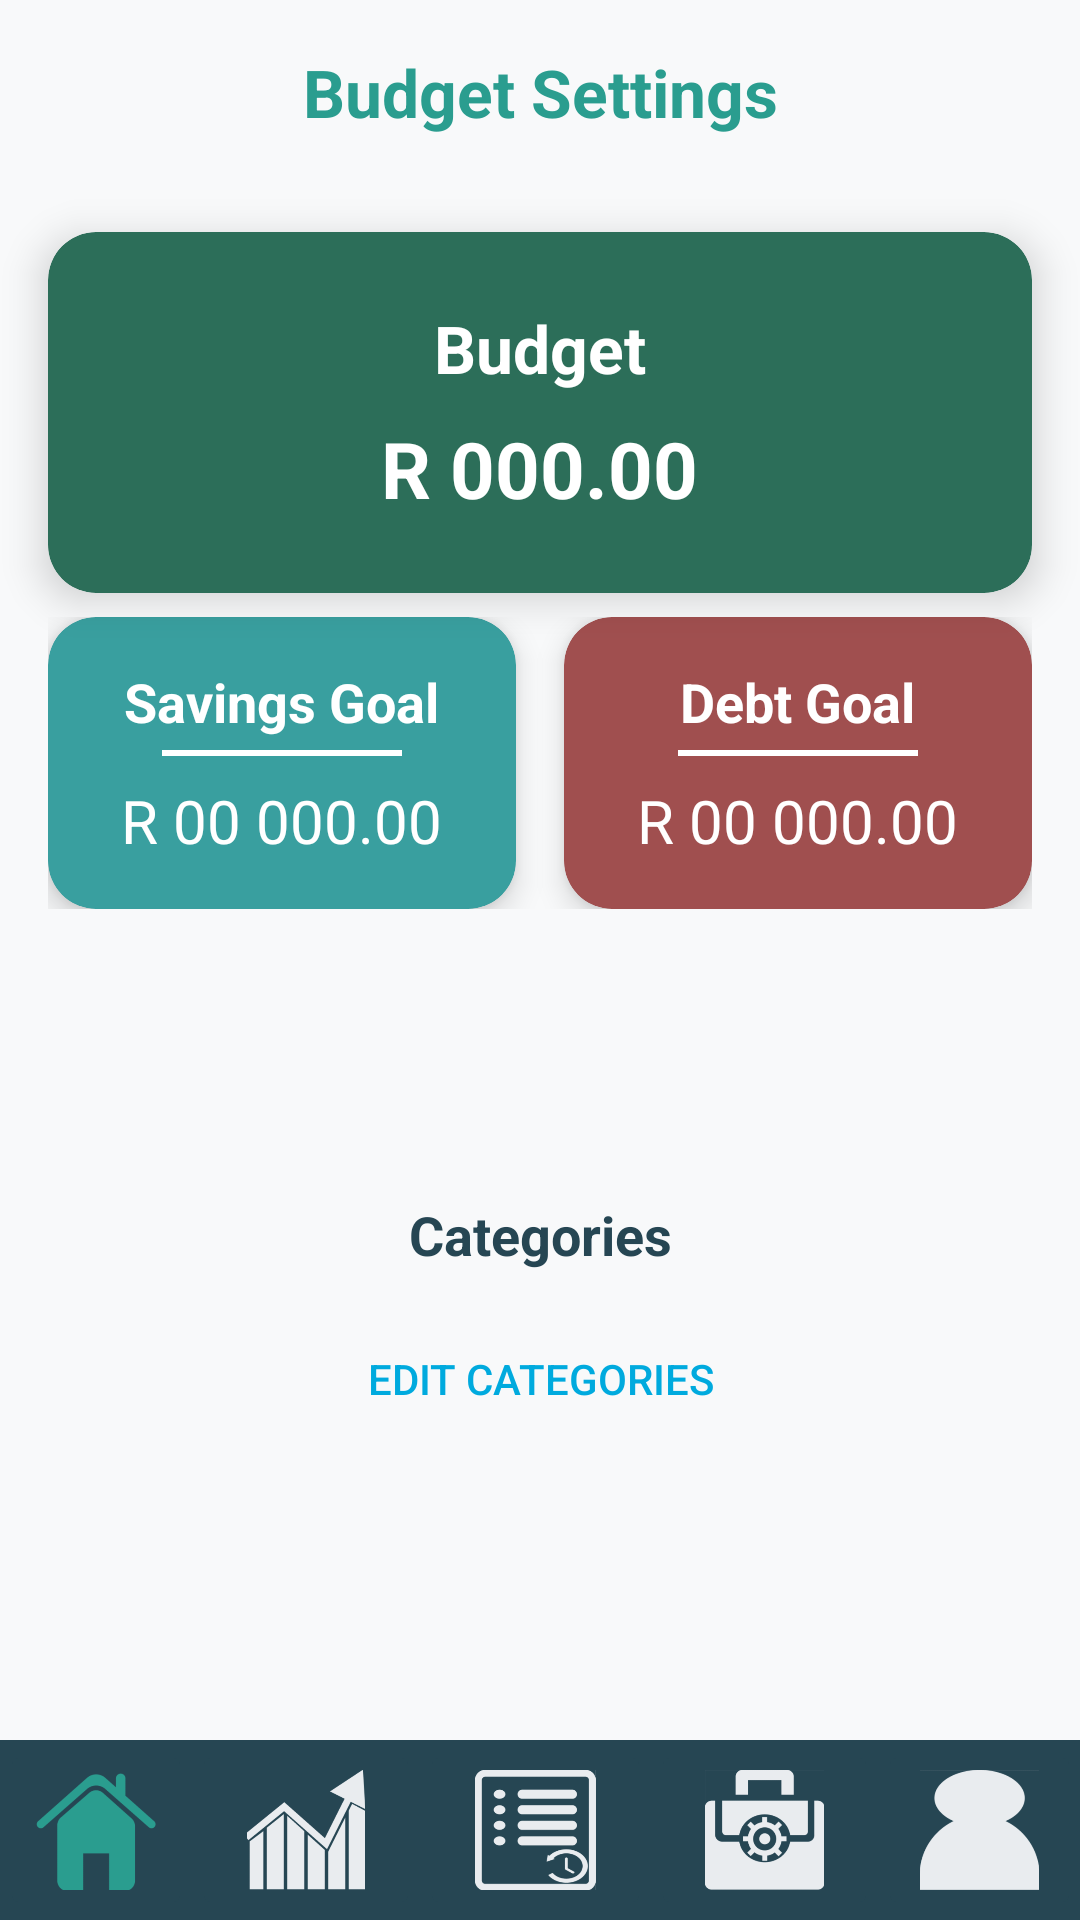

Point at icon controls on the screen. Image size 1080px×1920px, points as (x=x, y=y).
Budget Settings: (x=764, y=1830)
Graphs: (x=306, y=1830)
Home: (x=96, y=1831)
Profile: (x=979, y=1830)
Transaction History: (x=535, y=1830)
